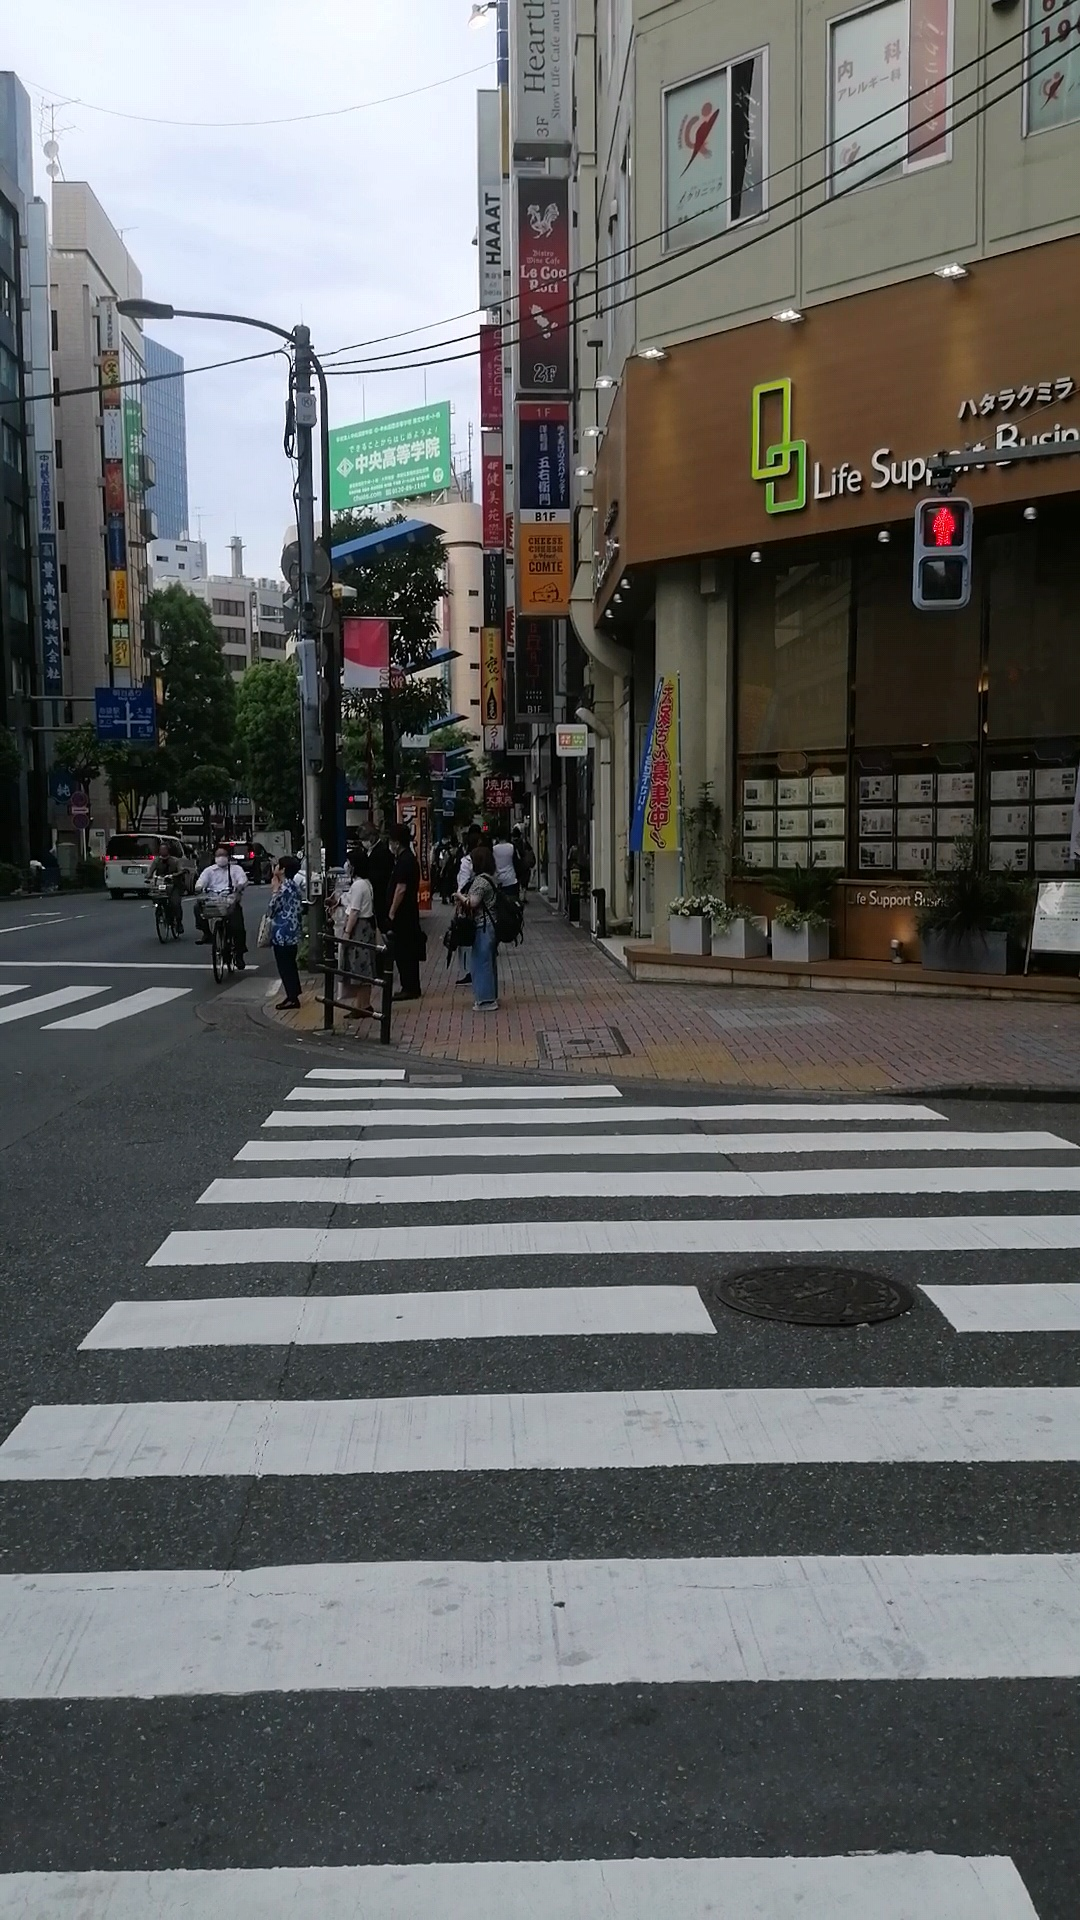red: (910, 500, 971, 608)
